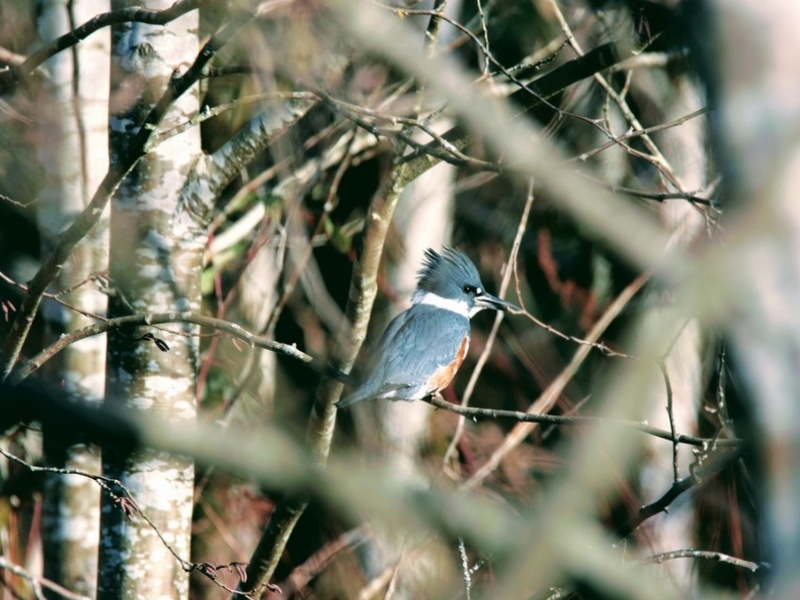kingfisher: (330, 238, 529, 425)
